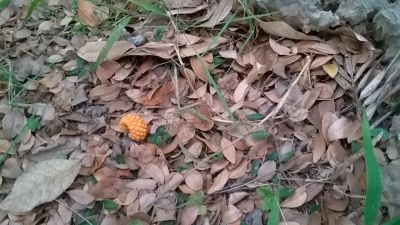eggs: (118, 110, 150, 143)
